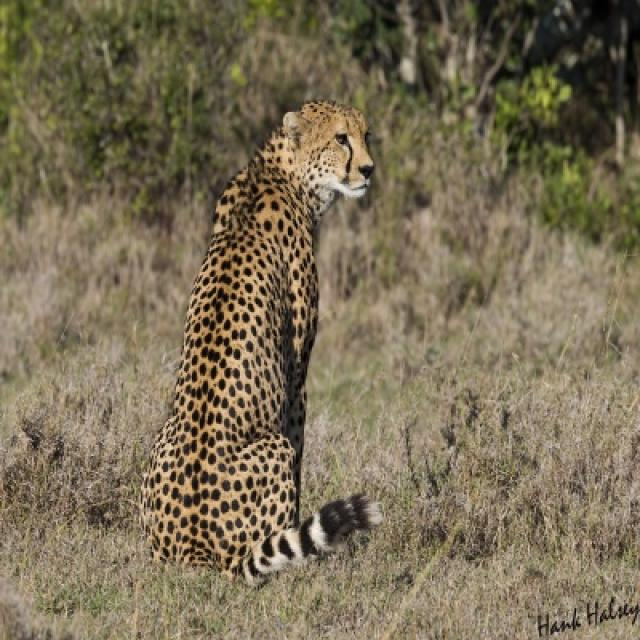Cheetah: (144, 102, 376, 587)
